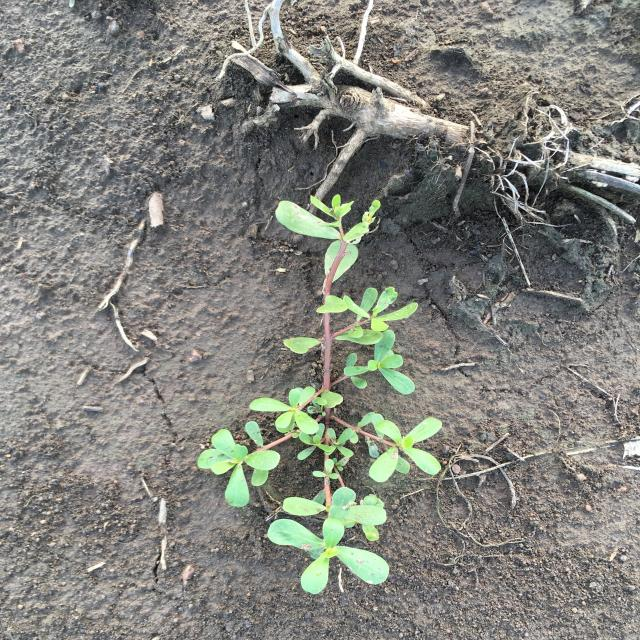Purslane: (198, 195, 442, 595)
